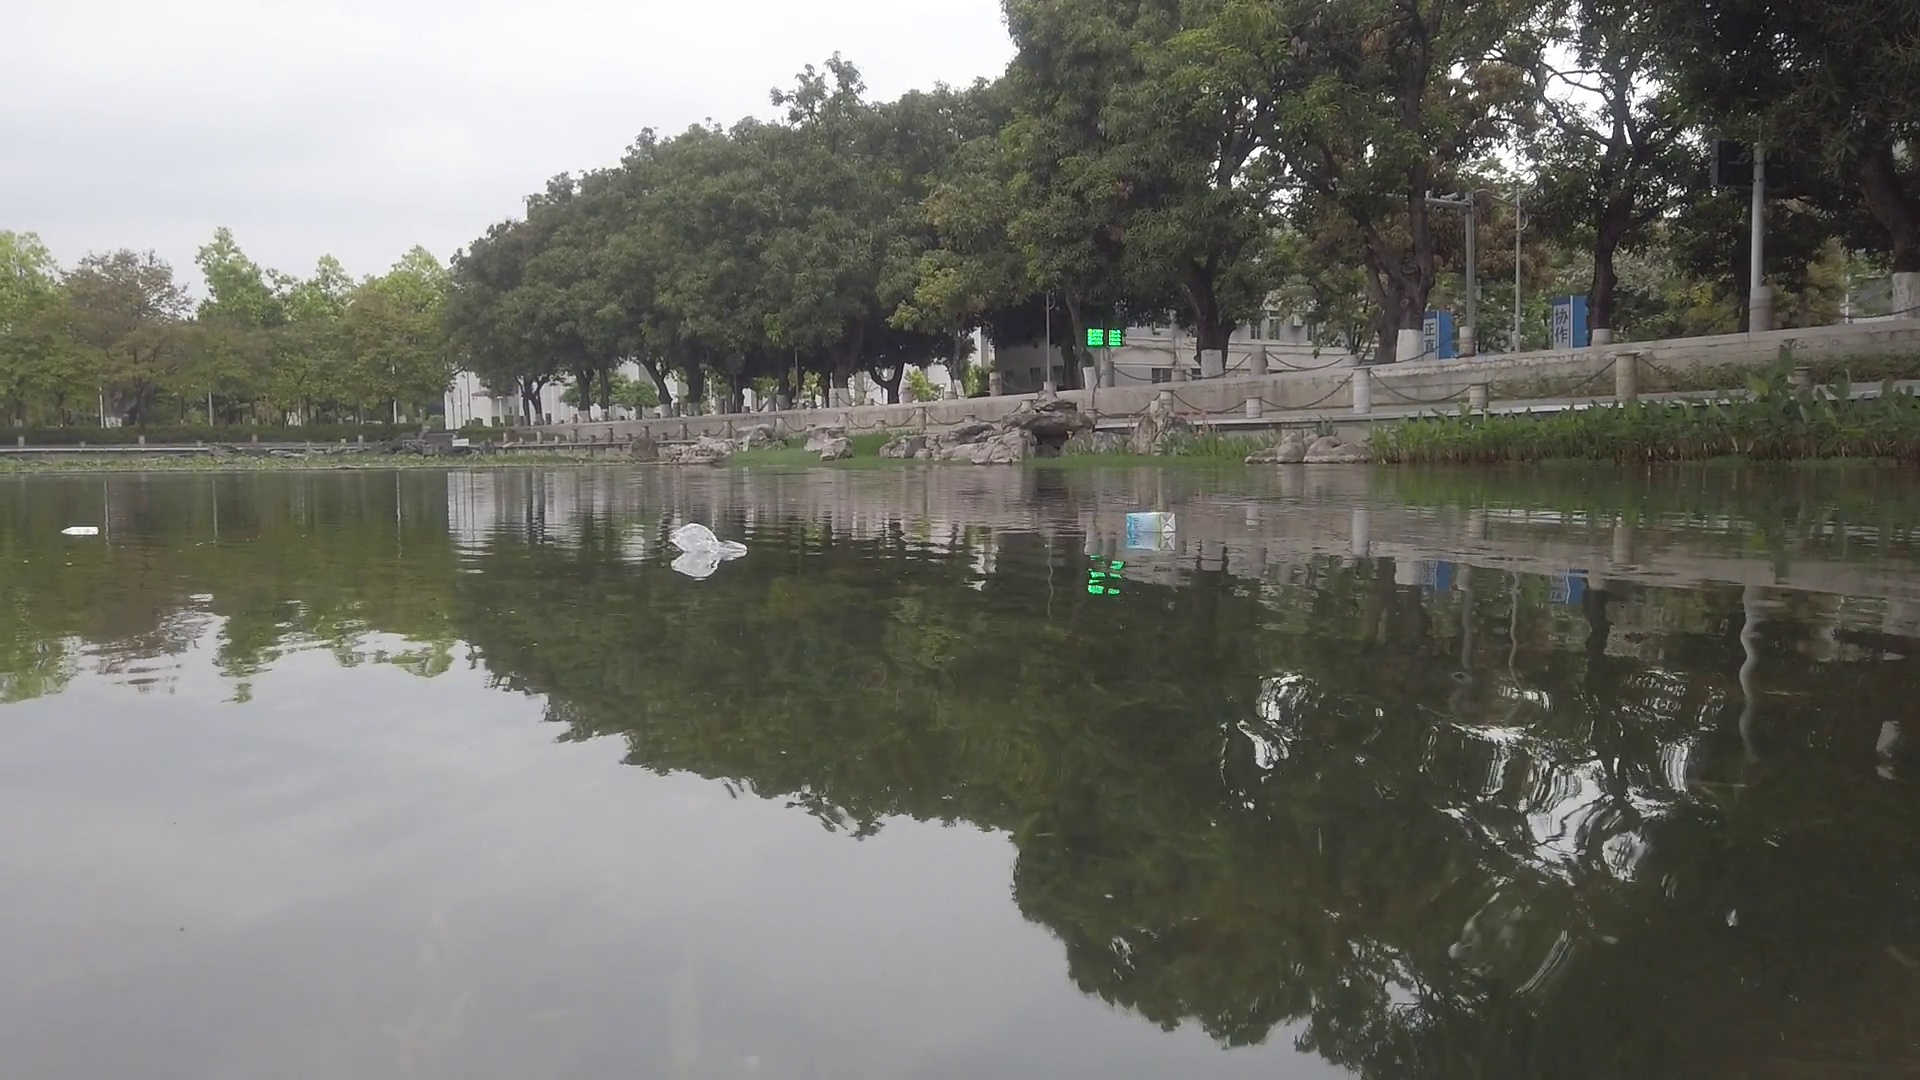carton: (1127, 509, 1182, 531)
paper: (61, 525, 96, 537)
plastic: (671, 516, 748, 567)
